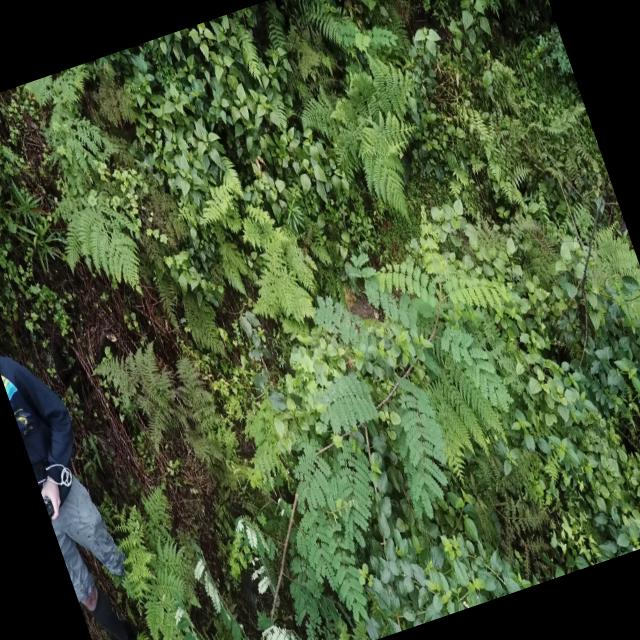Mysore-Thorn-Weed: (253, 170, 576, 558), (67, 430, 381, 640)
